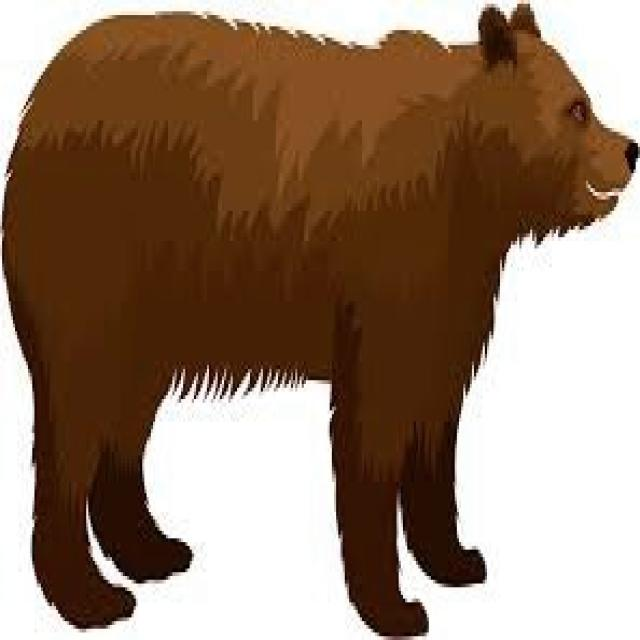bear: (2, 4, 636, 629)
